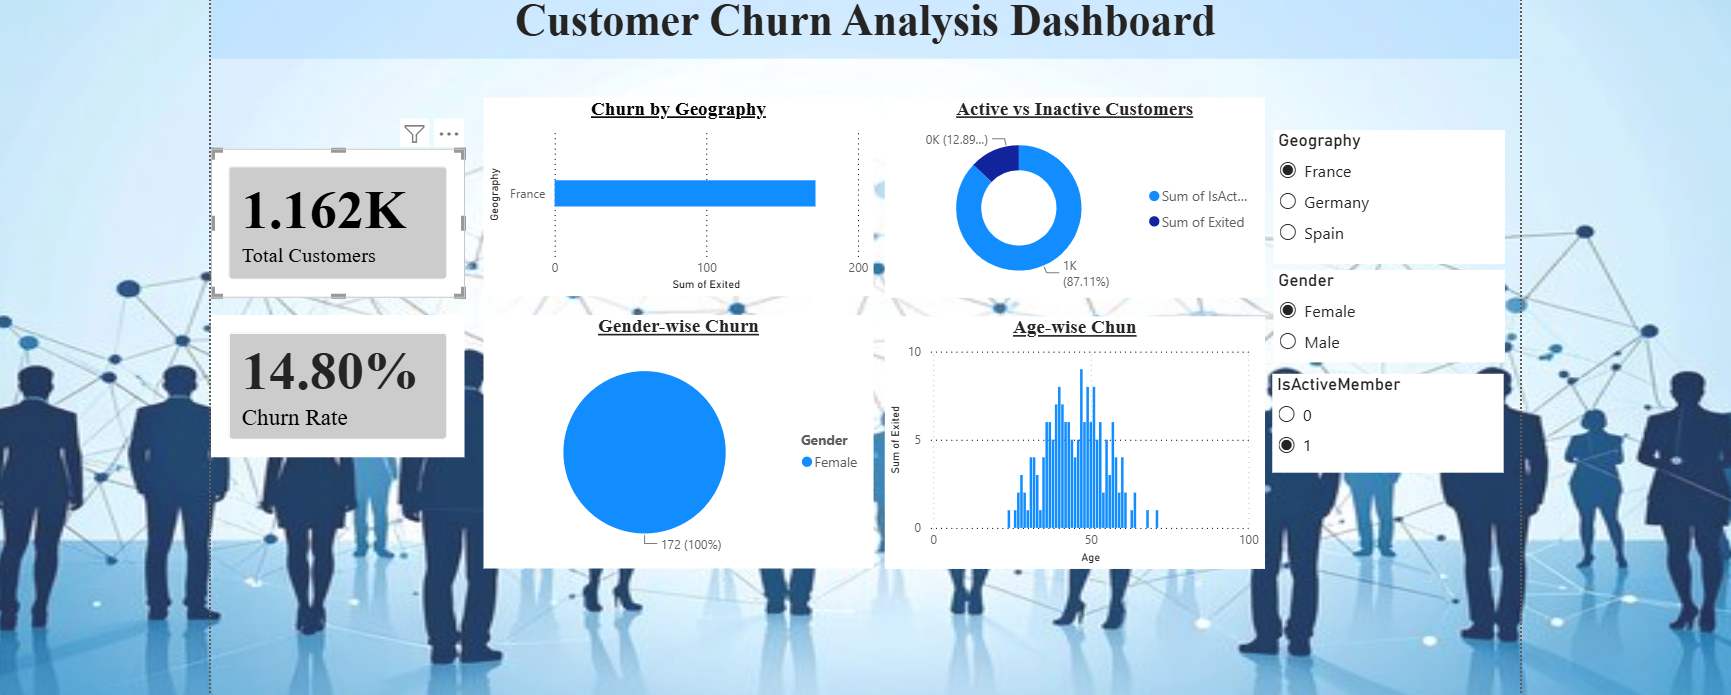

The dashboard page shown, as its layout file describes it:
{"tool":"powerbi","page":{"name":"Page 1","canvas":[1280,720],"ordinal":0},"visuals":[{"type":"cardVisual","fields":{"Data":["CountNonNull(churn_analysis customers.CustomerId)"]},"box":[0,155.3,248.2,145.5],"z":0},{"type":"cardVisual","fields":{"Data":["churn_analysis customers.Churn Rate"]},"box":[0,317.9,248.2,139.4],"z":1000},{"type":"clusteredBarChart","title":"Churn by Geography","fields":{"Category":["churn_analysis customers.Geography"],"Y":["Sum(churn_analysis customers.Exited)"]},"box":[266.6,105.2,381.5,194.4],"z":2000},{"type":"pieChart","title":"Gender-wise Churn","fields":{"Category":["churn_analysis customers.Gender"],"Y":["Sum(churn_analysis customers.Exited)"]},"box":[266.6,317.9,381.5,248.2],"z":3000},{"type":"donutChart","title":"Active vs Inactive Customers","fields":{"Y":["Sum(churn_analysis customers.IsActiveMember)","Sum(churn_analysis customers.Exited)"]},"box":[659.1,105.2,371.7,195.7],"z":4000},{"type":"clusteredColumnChart","title":"Age-wise Chun","fields":{"Y":["Sum(churn_analysis customers.Exited)"],"Category":["churn_analysis customers.Age"]},"box":[659.1,319.2,371.7,247],"z":5000},{"type":"listSlicer","fields":{"Values":["churn_analysis customers.Geography"]},"box":[1039.4,137,226.2,130.8],"z":6000},{"type":"listSlicer","fields":{"Values":["churn_analysis customers.Gender"]},"box":[1039.4,273.9,226.2,90.5],"z":7000},{"type":"listSlicer","fields":{"Values":["churn_analysis customers.IsActiveMember"]},"box":[1038.2,375.4,226.2,96.6],"z":8000},{"type":"textbox","box":[0,0,1280.3,67.2],"z":9000}]}

Visuals, with their boxes on the page's 1280x720 design canvas (x1, y1, x2, y2). These are canvas units, not pixel positions in the 1731x695 screenshot, which may show the page scaled, cropped or inside an application window:
cardVisual - CountNonNull(churn_analysis customers.CustomerId): (left=0, top=155, right=248, bottom=301)
cardVisual - churn_analysis customers.Churn Rate: (left=0, top=318, right=248, bottom=457)
"Churn by Geography" clusteredBarChart: (left=267, top=105, right=648, bottom=300)
"Gender-wise Churn" pieChart: (left=267, top=318, right=648, bottom=566)
"Active vs Inactive Customers" donutChart: (left=659, top=105, right=1031, bottom=301)
"Age-wise Chun" clusteredColumnChart: (left=659, top=319, right=1031, bottom=566)
listSlicer - churn_analysis customers.Geography: (left=1039, top=137, right=1266, bottom=268)
listSlicer - churn_analysis customers.Gender: (left=1039, top=274, right=1266, bottom=364)
listSlicer - churn_analysis customers.IsActiveMember: (left=1038, top=375, right=1264, bottom=472)
textbox: (left=0, top=0, right=1280, bottom=67)
